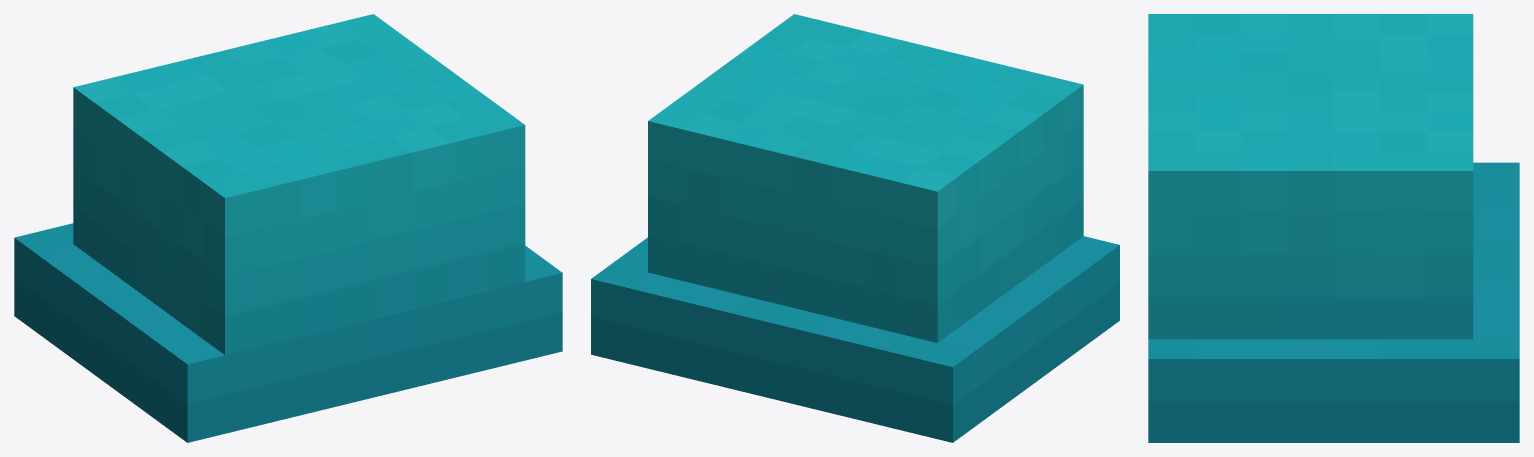
Rendered from Spine071.fbx.
3 renders of one model, left to right at view 1: azimuth 30°, elevation 25°; view 2: azimuth 150°, elevation 25°; view 3: azimuth 270°, elevation 25°, orthographic. The views are drawn at different scales.
Visible parts, largest first — view 1: Spine071; view 2: Spine071; view 3: Spine071.
Boxes of the visible parts, x1,y1,x2,y2 form: Spine071: (14, 14, 562, 442); Spine071: (591, 14, 1119, 442); Spine071: (1148, 14, 1519, 442).
Bounding box in the file's own units: 10 × 6 × 8.
